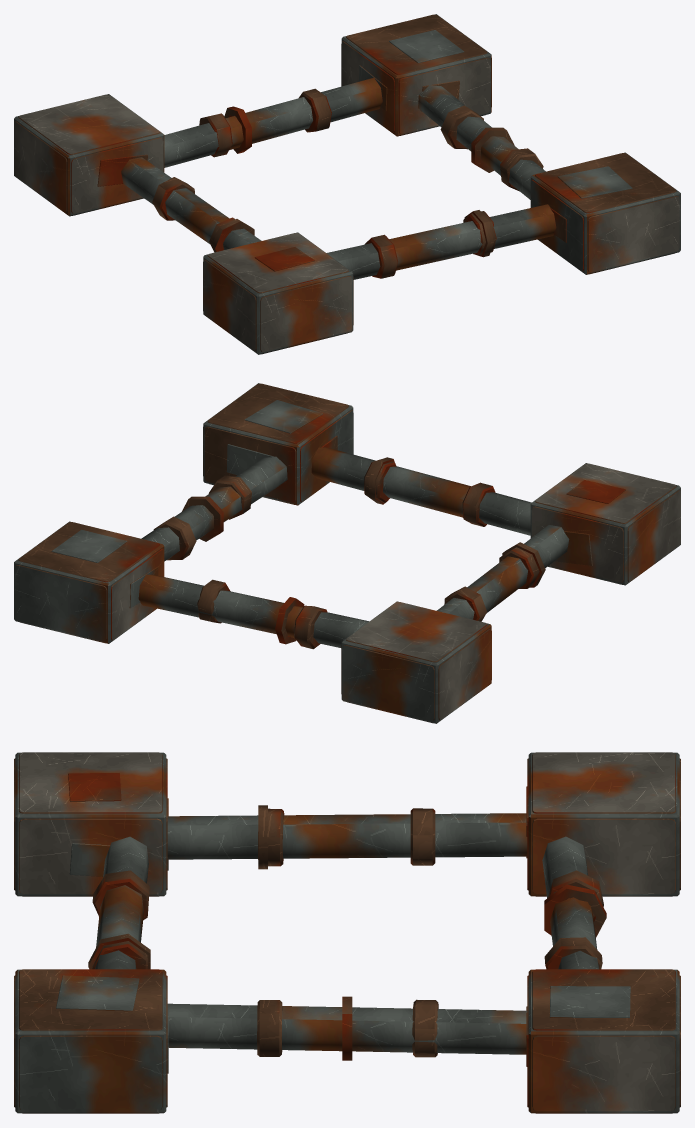
Rendered from R4C_ROD_FRAME.glb.
The picture shows the model from 3 angles, top to bottom: view 1: azimuth 30°, elevation 25°; view 2: azimuth 150°, elevation 25°; view 3: azimuth 270°, elevation 25°; orthographic projection. The views are drawn at different scales.
Visible parts, largest first — view 1: R4C_ROD_FRAME; view 2: R4C_ROD_FRAME; view 3: R4C_ROD_FRAME.
Part boxes in pixels (left/top/right/bottom): R4C_ROD_FRAME: left=14, top=14, right=680, bottom=354; R4C_ROD_FRAME: left=14, top=383, right=680, bottom=723; R4C_ROD_FRAME: left=14, top=752, right=680, bottom=1113.
Size of the model in its own units: 1.62 by 0.232 by 1.62.
4 materials, 4 textured.
